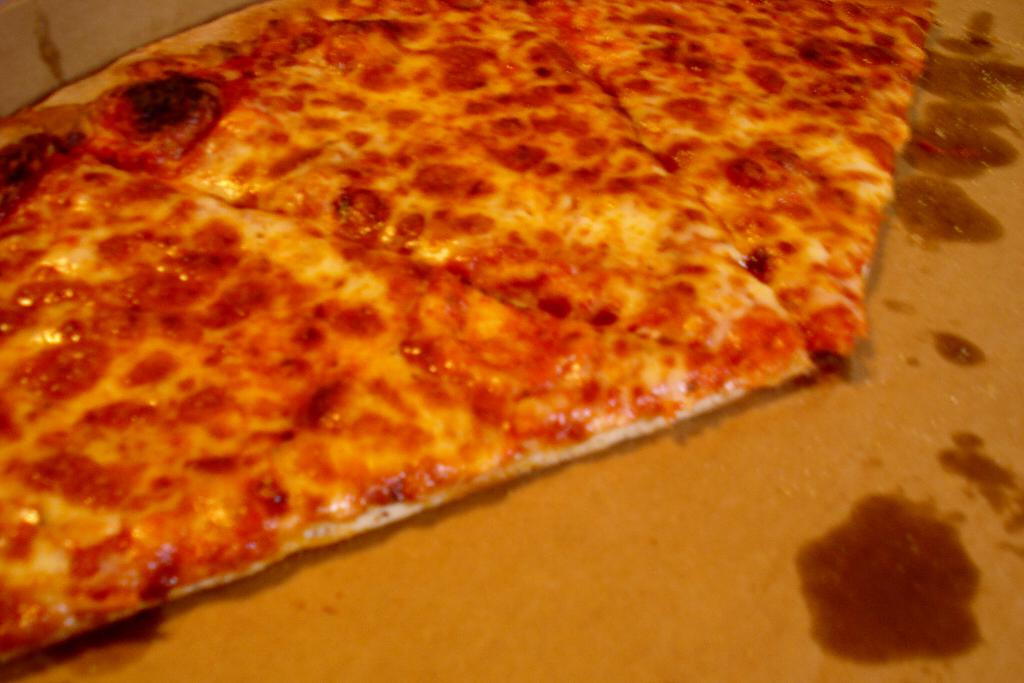Pizza: (0, 0, 945, 680)
